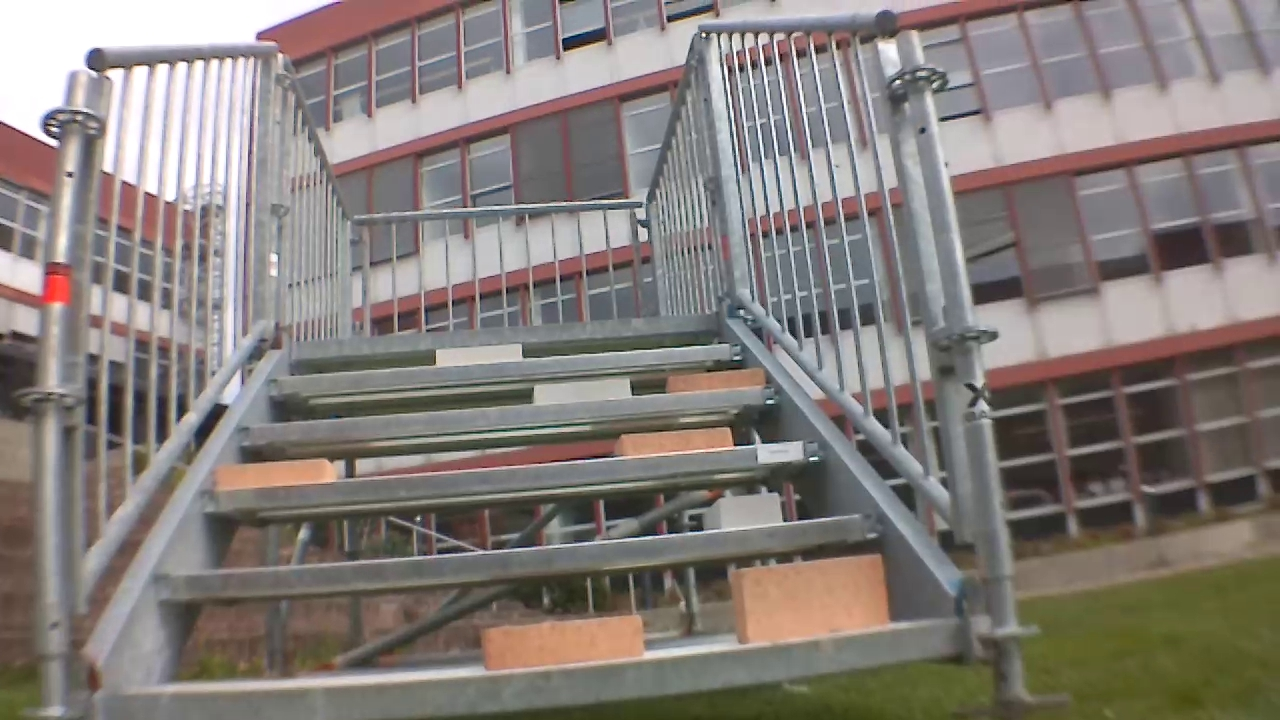brick: (733, 551, 894, 638), (475, 610, 646, 672), (216, 456, 339, 493), (616, 425, 732, 464), (703, 487, 787, 534), (532, 374, 631, 405), (660, 367, 763, 394), (426, 346, 528, 369)
edge: (145, 508, 889, 611), (58, 643, 976, 720), (198, 430, 828, 517), (237, 380, 783, 445), (271, 346, 746, 402), (285, 307, 739, 362)
stairs: (50, 38, 1000, 720)
steps: (135, 336, 1008, 710)
